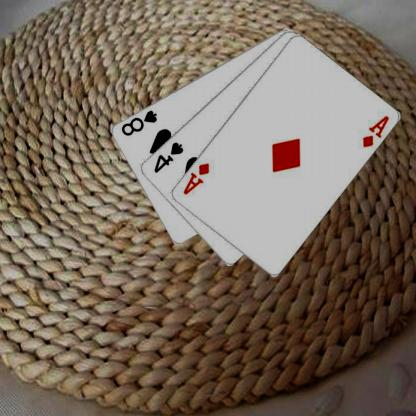4S: (153, 140, 186, 174)
8S: (120, 108, 160, 138)
AD: (182, 160, 212, 196), (361, 113, 391, 149)
